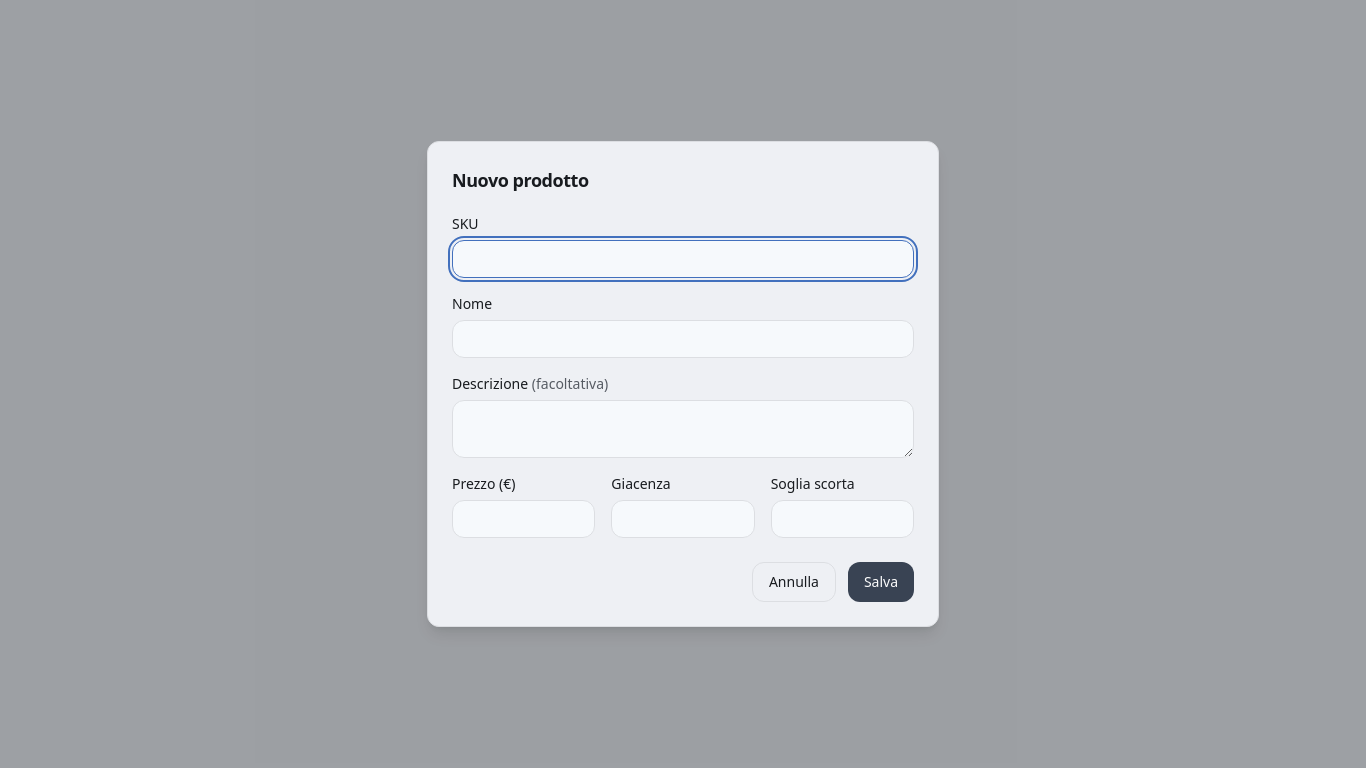
Scenario: ProductFormDialog › rifiuta valori numerici negativi o non interi dove richiesto
The width and height of the screenshot is (1366, 768).
Type "SKU-1" into the field labelled "SKU" at (683, 259), box x1=452 y1=240 x2=914 y2=278
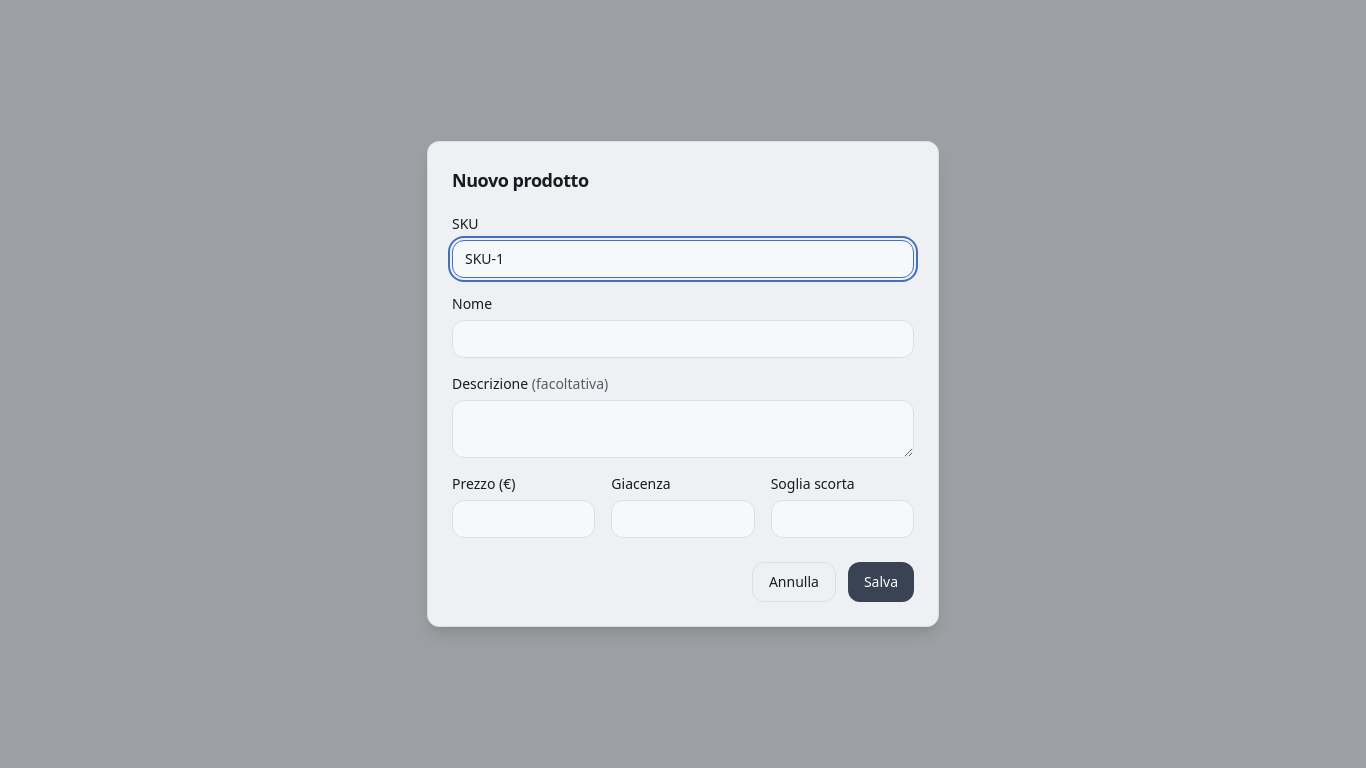
Type "X" into the field labelled "Nome" at (683, 339), box x1=452 y1=320 x2=914 y2=358
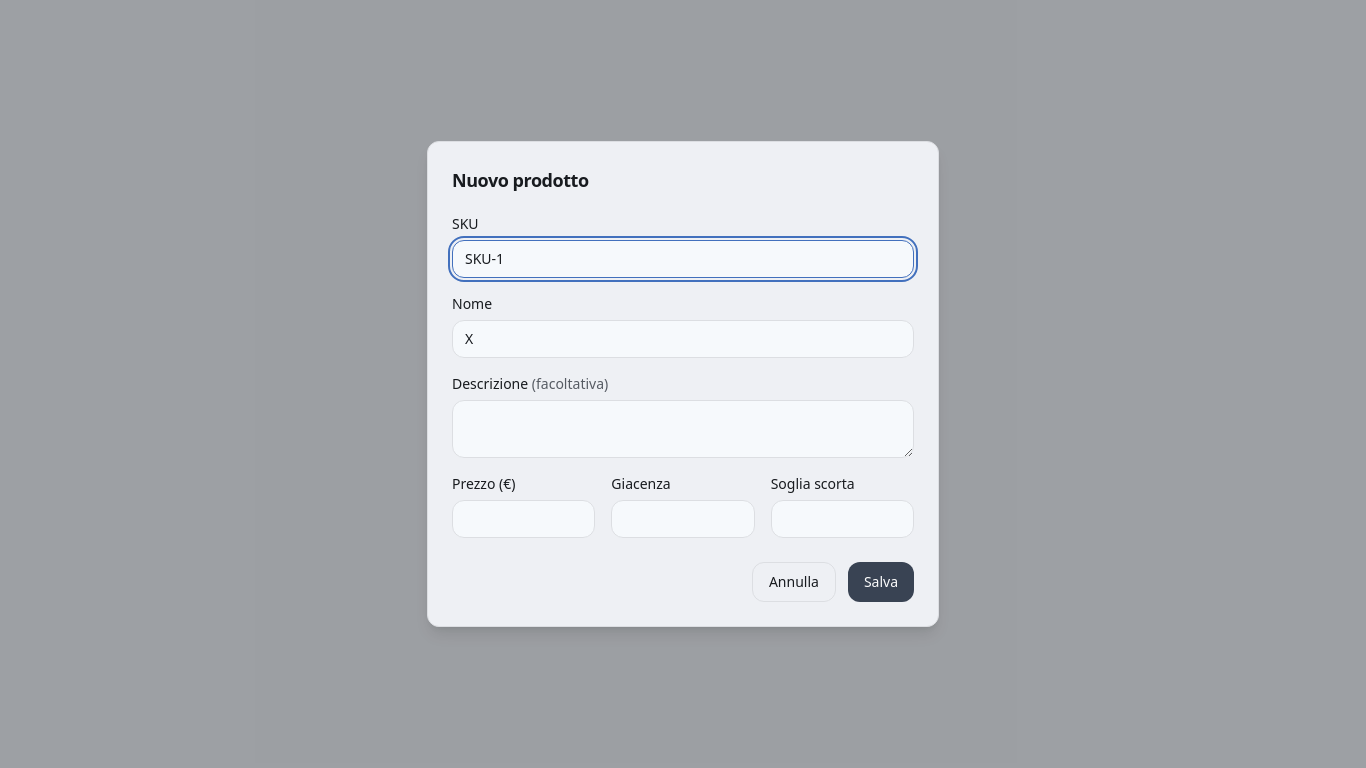
Type "-1" into the field labelled "Prezzo (€)" at (524, 519), box x1=452 y1=500 x2=595 y2=538
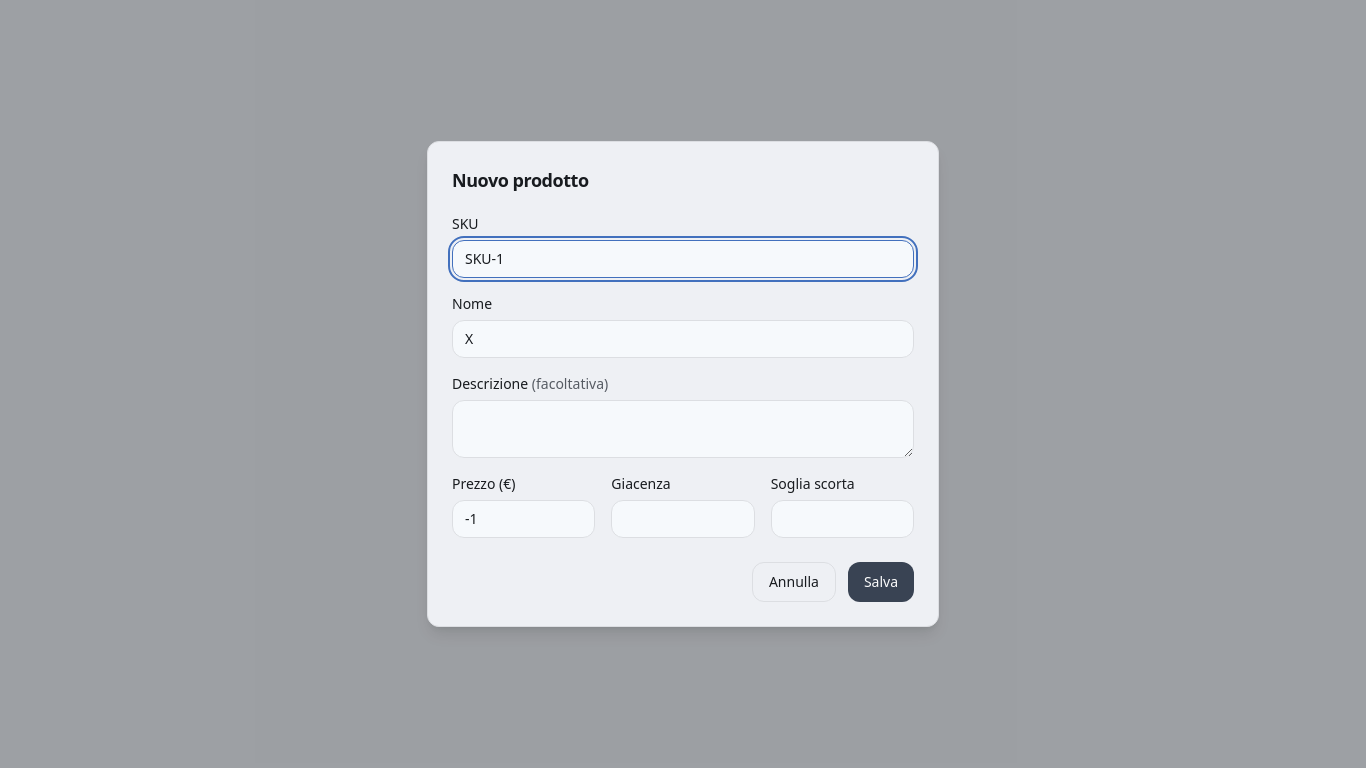
Type "2.5" into the number field labelled "Giacenza" at (683, 519), box x1=611 y1=500 x2=755 y2=538
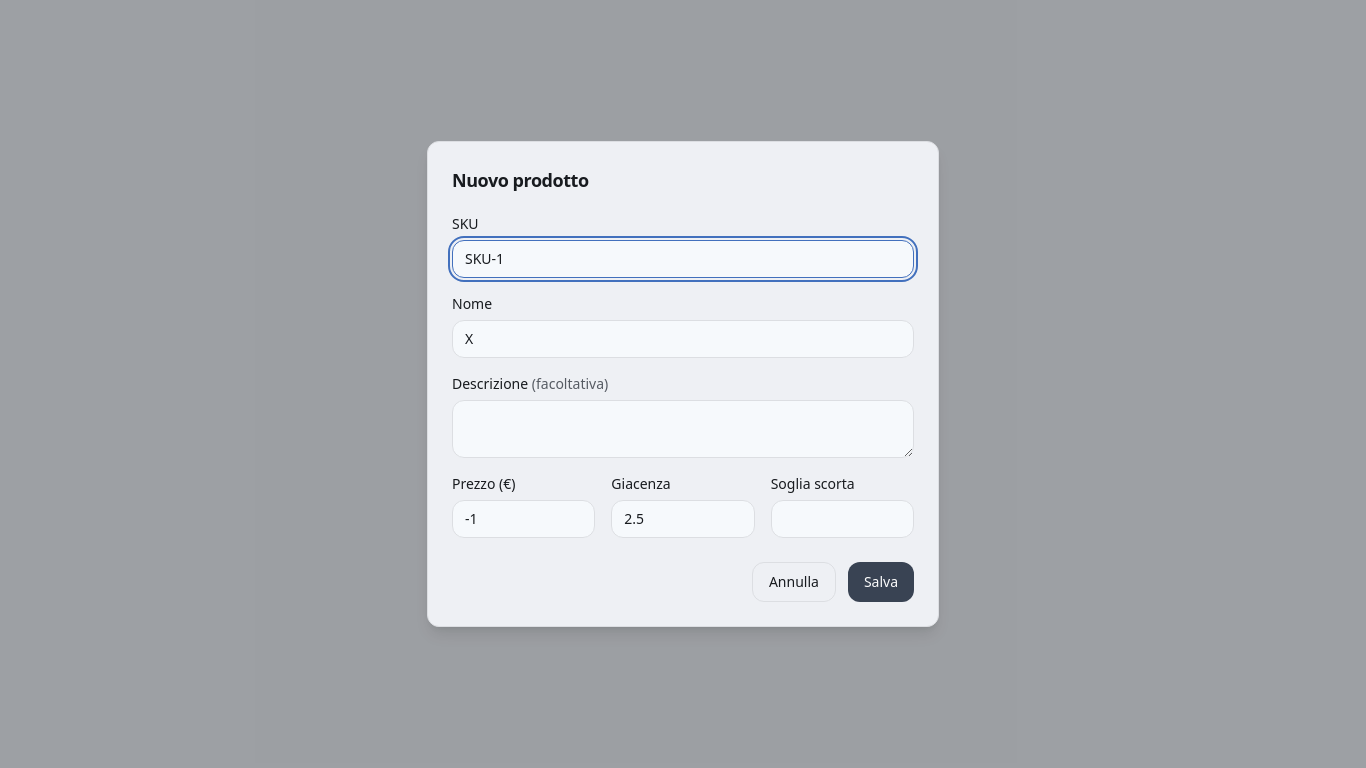
Type "3" into the number field labelled "Soglia scorta" at (842, 519), box x1=771 y1=500 x2=914 y2=538
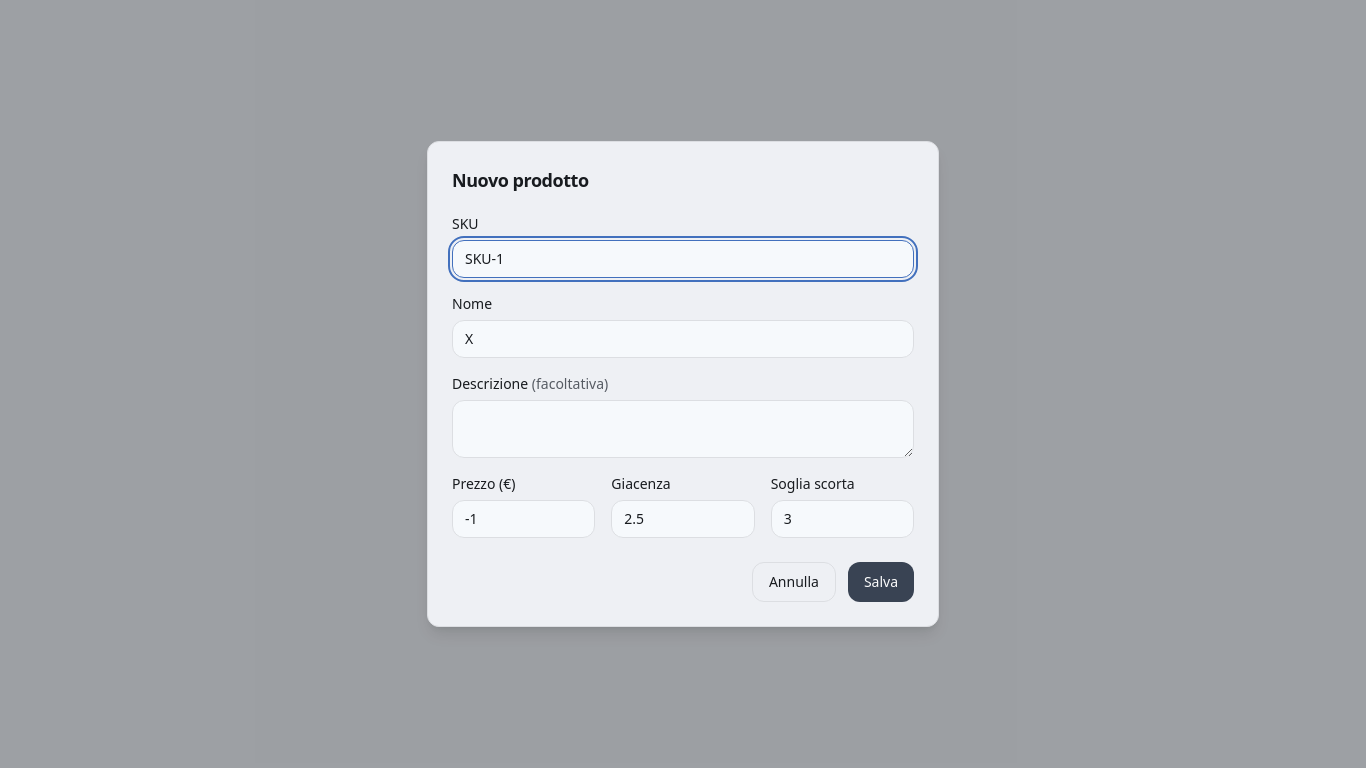
Click the button "Salva" at (881, 582), box x1=848 y1=562 x2=914 y2=602
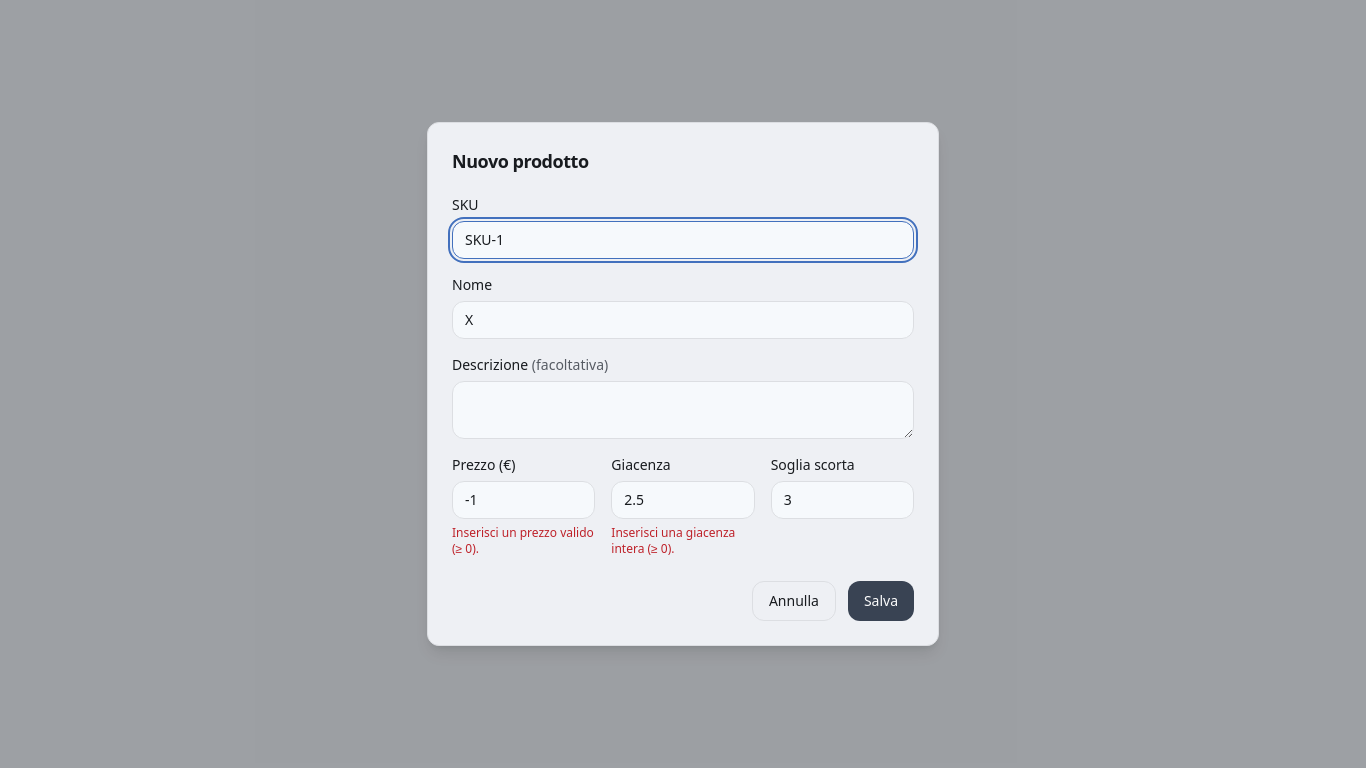
expect the text "Inserisci un prezzo valido (≥ 0)." is shown: met, box x1=452 y1=525 x2=595 y2=557
expect the text "Inserisci una giacenza intera (≥ 0)." is shown: met, box x1=611 y1=525 x2=755 y2=557
